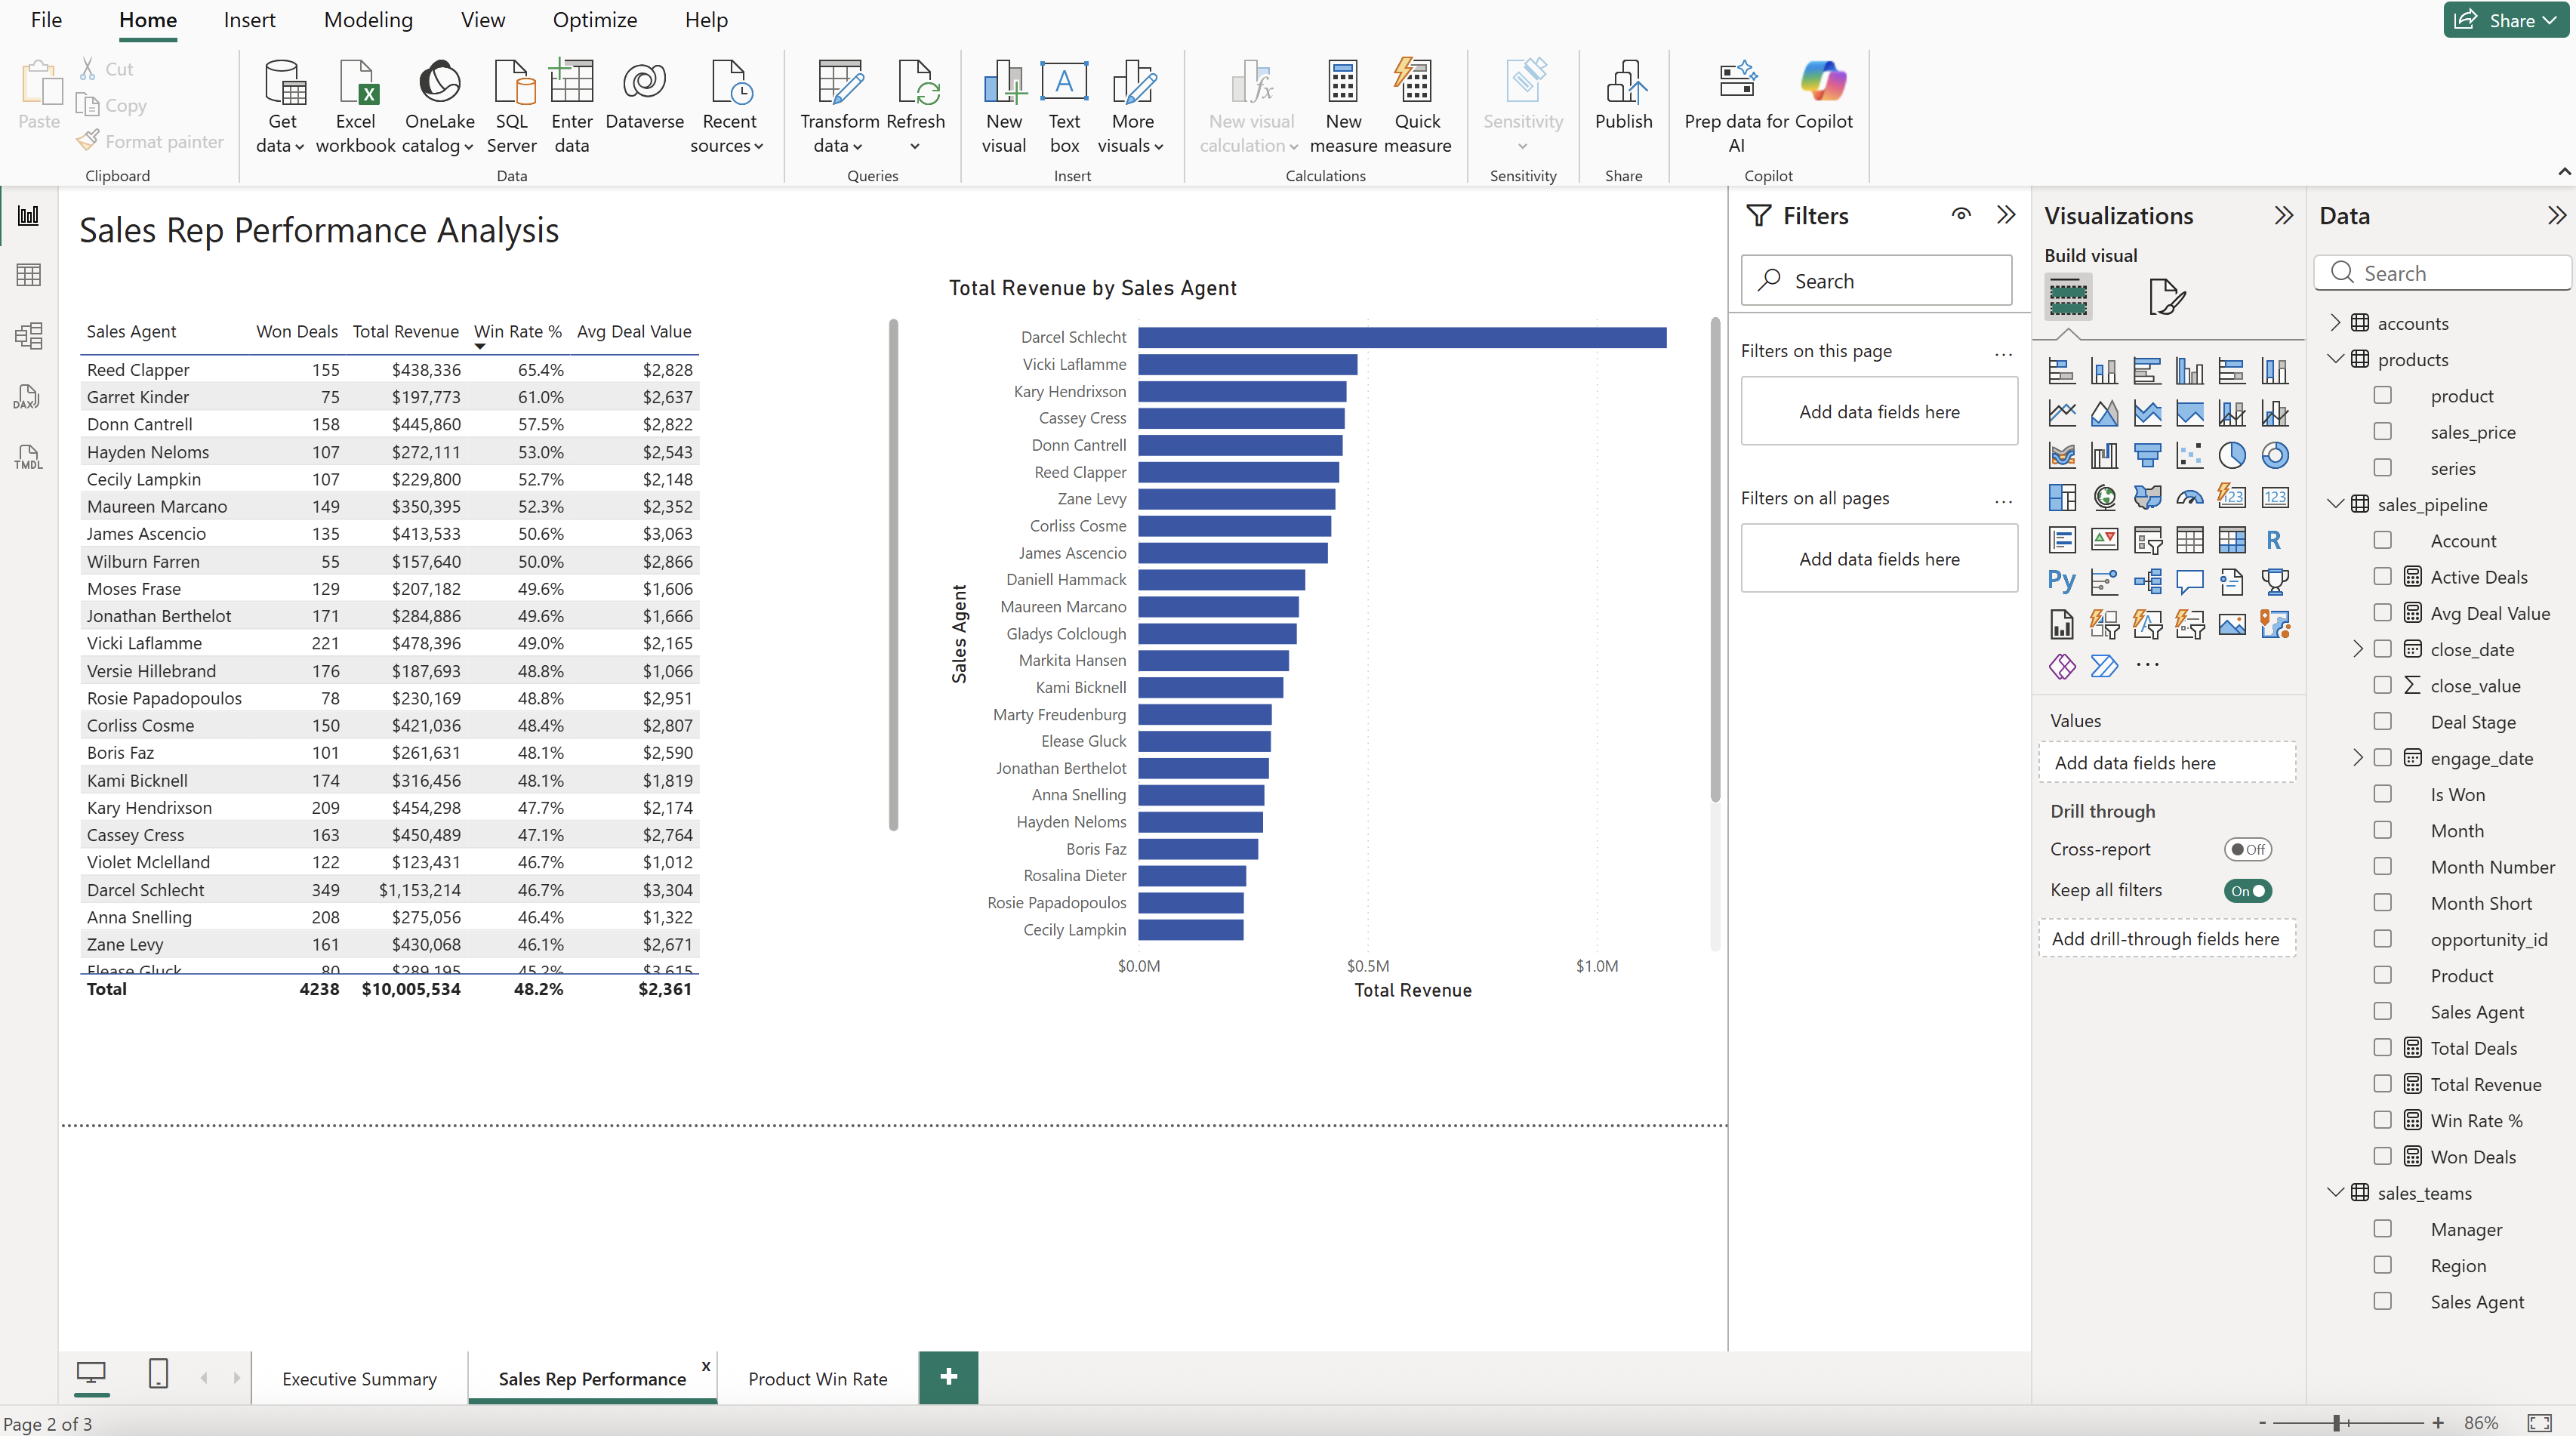

The dashboard page shown, as its layout file describes it:
{"tool":"powerbi","page":{"name":"Sales Rep Performance","canvas":[1280,720],"ordinal":1},"visuals":[{"type":"tableEx","fields":{"Values":["sales_pipeline.sales_agent","sales_pipeline.Total Deals","sales_pipeline.Total Revenue","sales_pipeline.Win Rate %","sales_pipeline.Avg Deal Value"]},"box":[10.4,96.1,639.4,534],"z":0},{"type":"barChart","fields":{"Category":["sales_teams.sales_agent"],"Y":["sales_pipeline.Total Revenue"]},"box":[677.6,68.3,602.4,561.8],"z":1000},{"type":"textbox","box":[10.4,9.3,502.3,59],"z":2000}]}

Visuals, with their boxes on the page's 1280x720 design canvas (x1, y1, x2, y2). These are canvas units, not pixel positions in the 2576x1436 screenshot, which may show the page scaled, cropped or inside an application window:
tableEx - sales_pipeline.sales_agent x sales_pipeline.Total Deals: [x1=10, y1=96, x2=650, y2=630]
barChart - sales_teams.sales_agent x sales_pipeline.Total Revenue: [x1=678, y1=68, x2=1280, y2=630]
textbox: [x1=10, y1=9, x2=513, y2=68]
